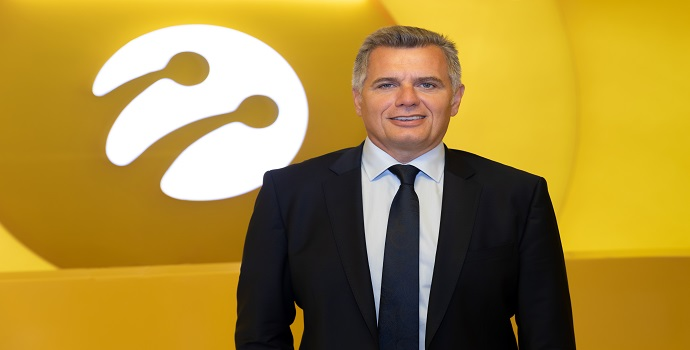turkcell: (90, 19, 308, 200)
